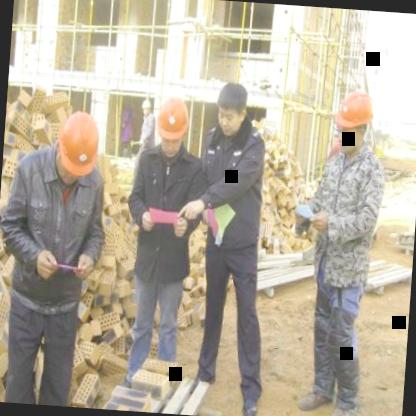head: (209, 72, 256, 145)
helmet: (51, 110, 104, 191), (330, 80, 382, 159), (151, 95, 192, 160), (140, 95, 154, 120)
